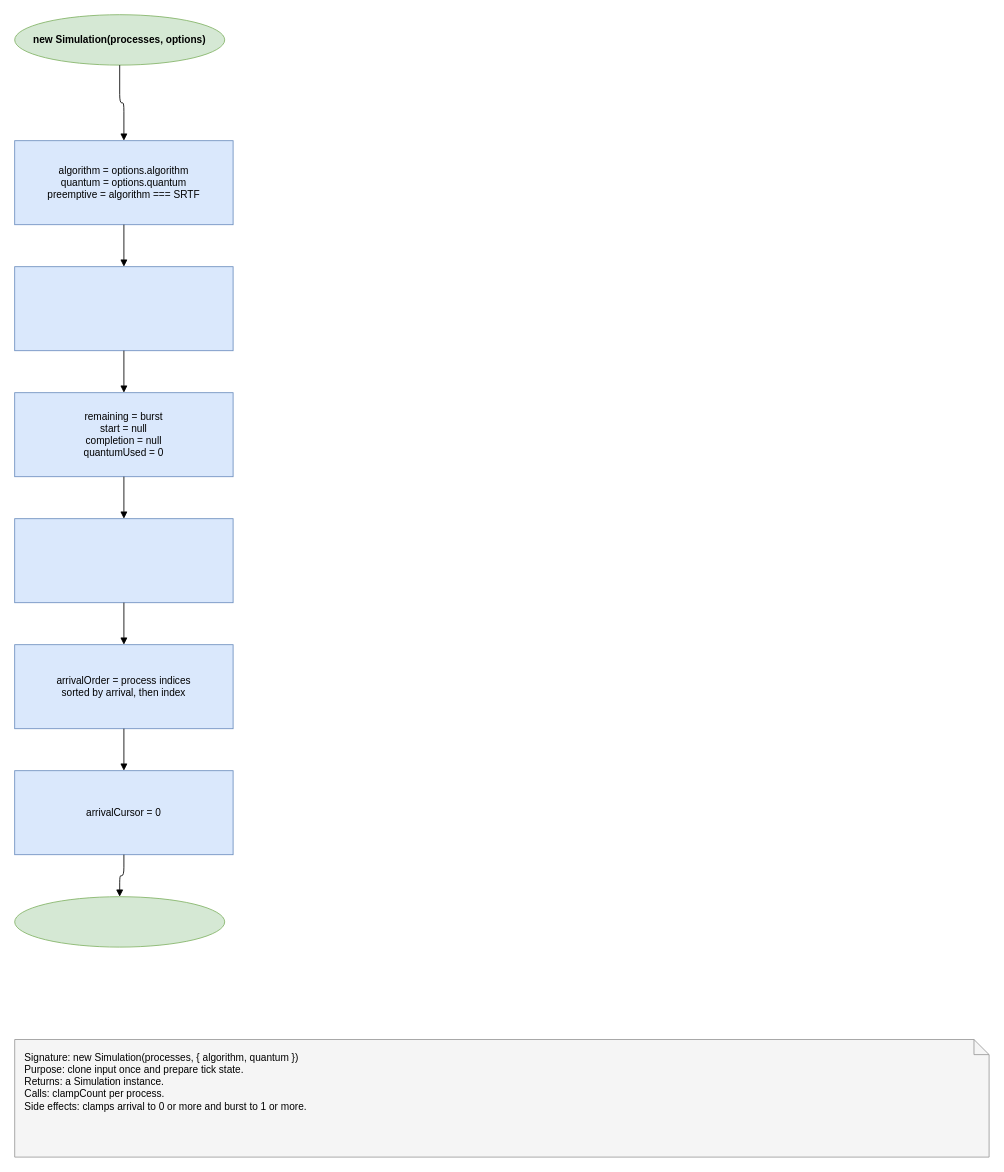
Some shapes in this 1004 by 1172 pixel diagram are drawn without their labels. The shapes that lost their labels are listed below. From the top down, each one's centre as x and y in pixels, then its label:
pixel 123 308: clone each process clamp arrival, clamp burst to at least 1 attach stable index
pixel 123 560: time = 0, current = null ready = [], timeline = [], history = [] completed = 0
pixel 119 921: Simulation ready
